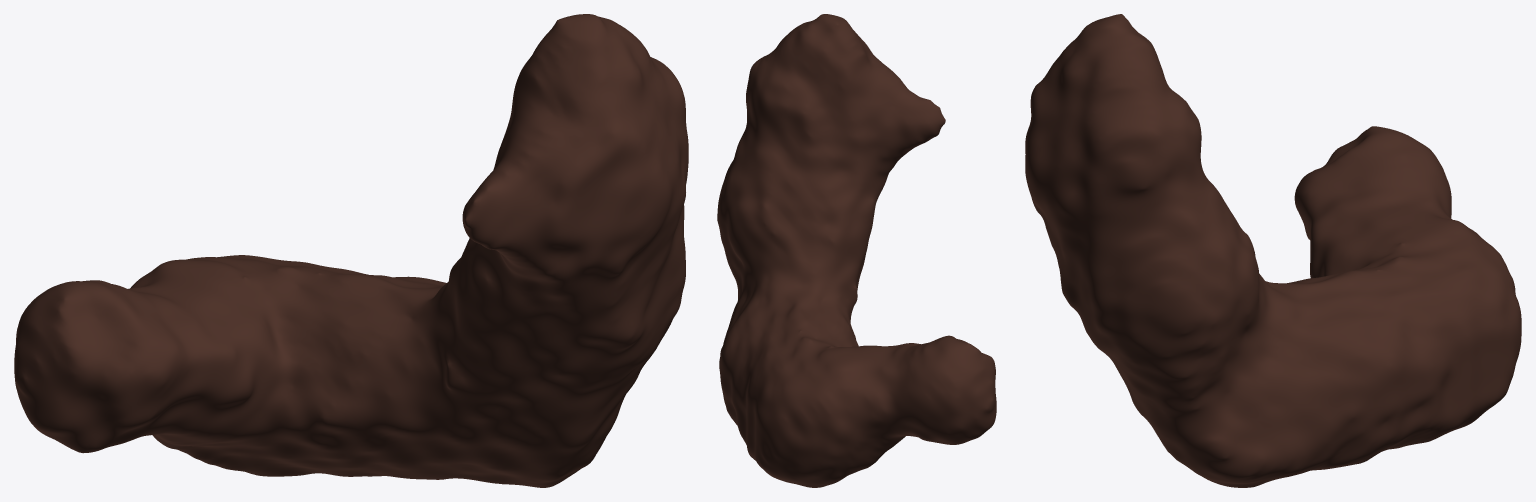
The model's file is stomach.obj.
The picture shows the model from 3 angles, left to right: view 1: azimuth 30°, elevation 25°; view 2: azimuth 150°, elevation 25°; view 3: azimuth 270°, elevation 25°; orthographic projection. The views are drawn at different scales.
Parts seen in each view (by area): view 1: grp1; view 2: grp1; view 3: grp1.
Boxes of the visible parts, <box> form: grp1: <box>14,14,688,487</box>; grp1: <box>717,14,996,487</box>; grp1: <box>1025,14,1521,487</box>.
Bounding box in the file's own units: 114 × 112 × 107.
